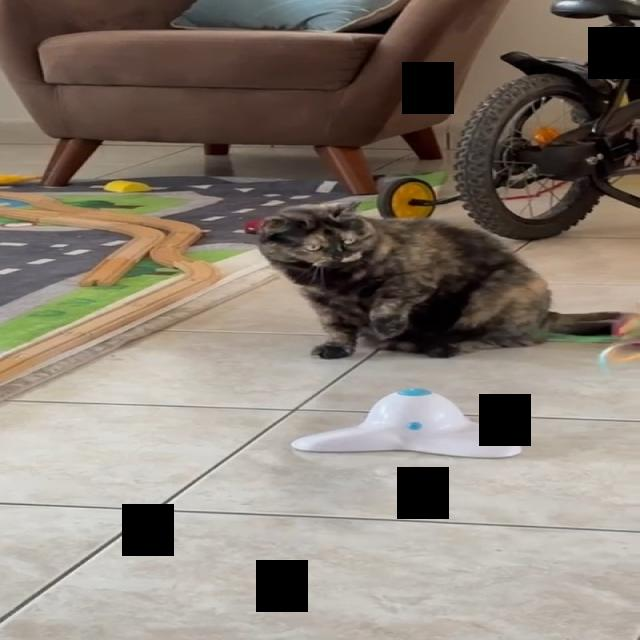authorized: (253, 199, 631, 359)
